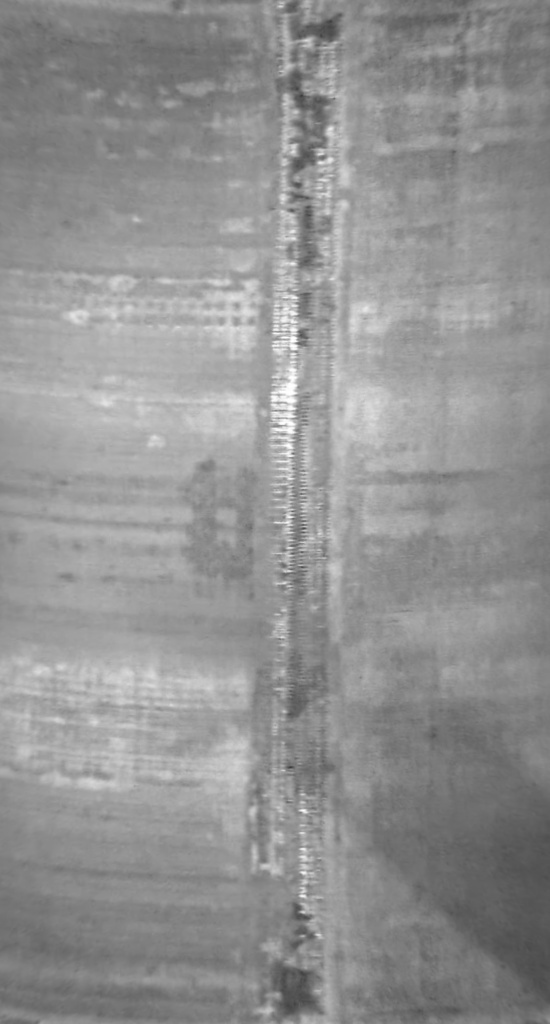splice: (251, 1, 348, 1024)
